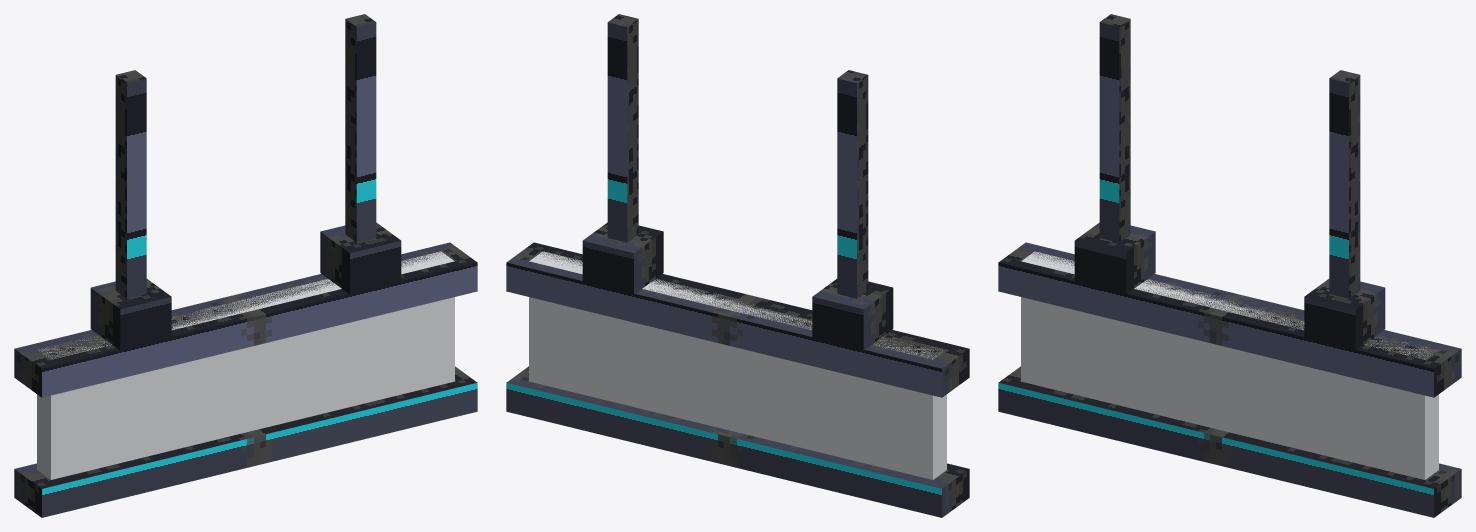
Rendered from nav_hanger.glb.
The picture shows the model from 3 angles, left to right: view 1: azimuth 30°, elevation 25°; view 2: azimuth 150°, elevation 25°; view 3: azimuth 330°, elevation 25°; orthographic projection.
Visible parts, largest first — view 1: nav_hanger; view 2: nav_hanger; view 3: nav_hanger.
Part boxes in pixels (left/top/right/bottom): nav_hanger: left=14, top=14, right=477, bottom=517; nav_hanger: left=506, top=14, right=969, bottom=517; nav_hanger: left=998, top=14, right=1461, bottom=517.
Bounding box in the file's own units: 1.1 × 0.98 × 0.13.
Materials: 7 (6 with a texture image).
